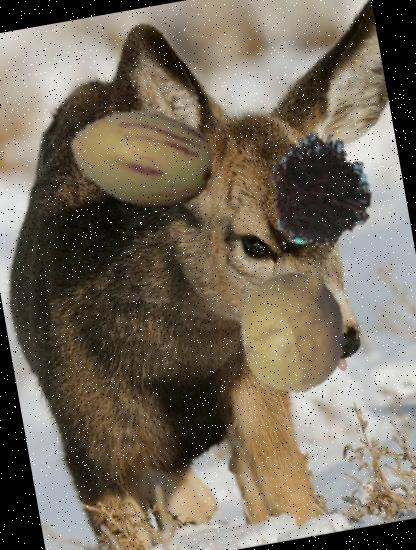Lemon: (221, 258, 365, 402)
Pepino: (57, 78, 226, 246)
Rambutan: (250, 118, 389, 257)
